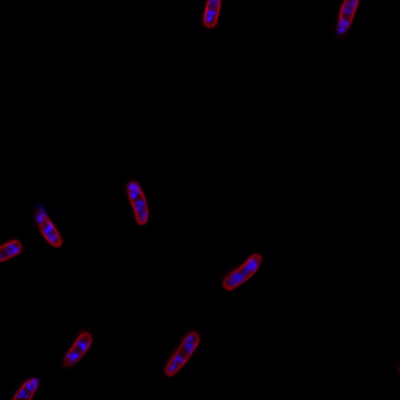Control: (162, 330, 202, 379), (220, 253, 264, 292), (124, 179, 151, 227)
Oblique: (29, 201, 63, 249), (64, 329, 94, 373)
